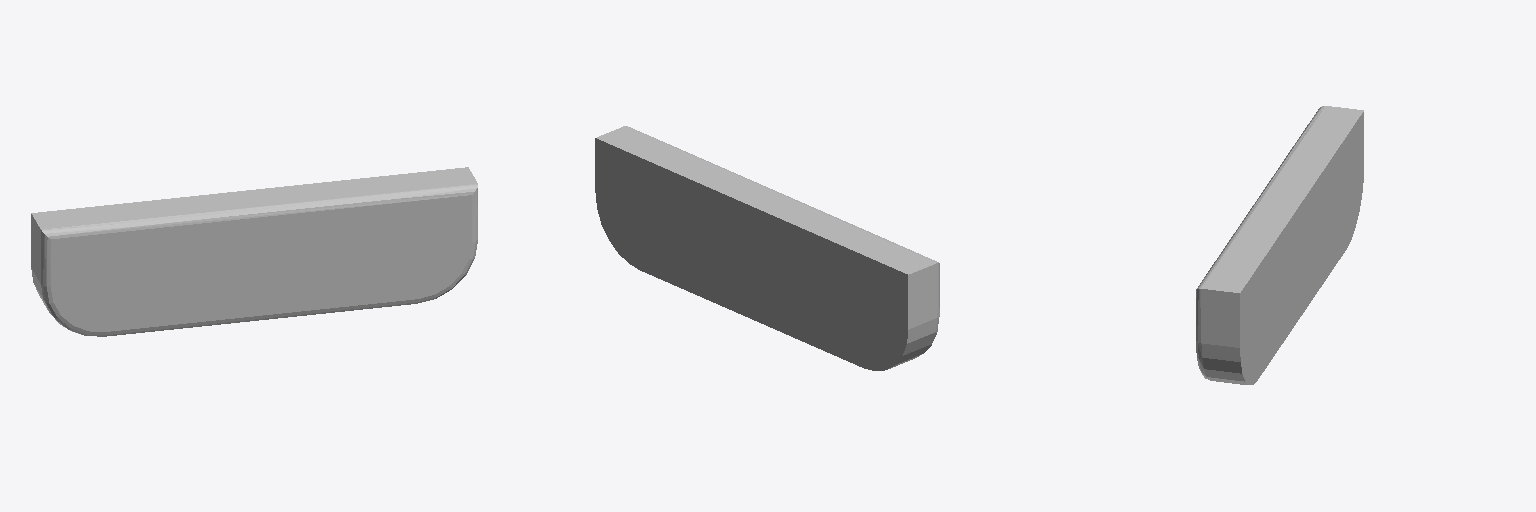
File: LeftShoulder.obj
The picture shows the model from 3 angles: view 1: azimuth 30°, elevation 25°; view 2: azimuth 150°, elevation 25°; view 3: azimuth 270°, elevation 25°; orthographic projection.
Visible parts, largest first — view 1: LeftShoulder; view 2: LeftShoulder; view 3: LeftShoulder.
Boxes of the visible parts, box(x1,y1,x2,y2) form: LeftShoulder: box(31, 167, 477, 336); LeftShoulder: box(595, 126, 939, 370); LeftShoulder: box(1196, 106, 1363, 384).
Size of the model in its own units: 27.62 by 7.75 by 10.48.